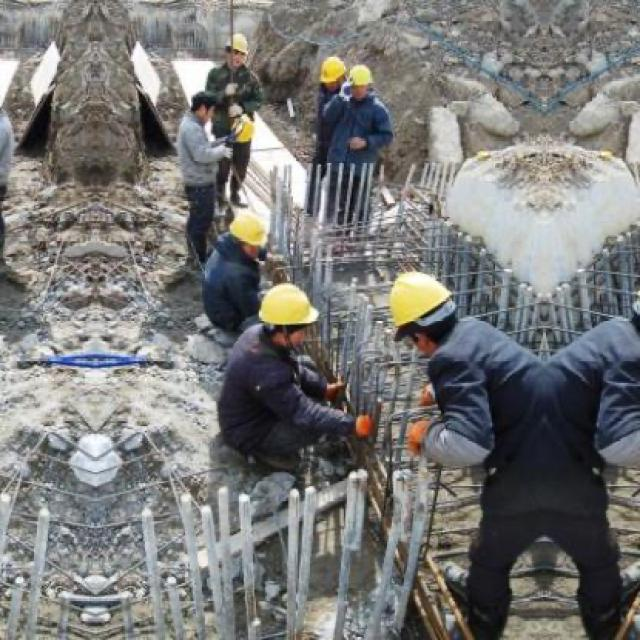con casco: (232, 268, 354, 365), (398, 260, 498, 360), (202, 189, 283, 256), (309, 54, 377, 118), (189, 35, 262, 93), (152, 100, 233, 146), (287, 51, 356, 102), (315, 258, 360, 296)
